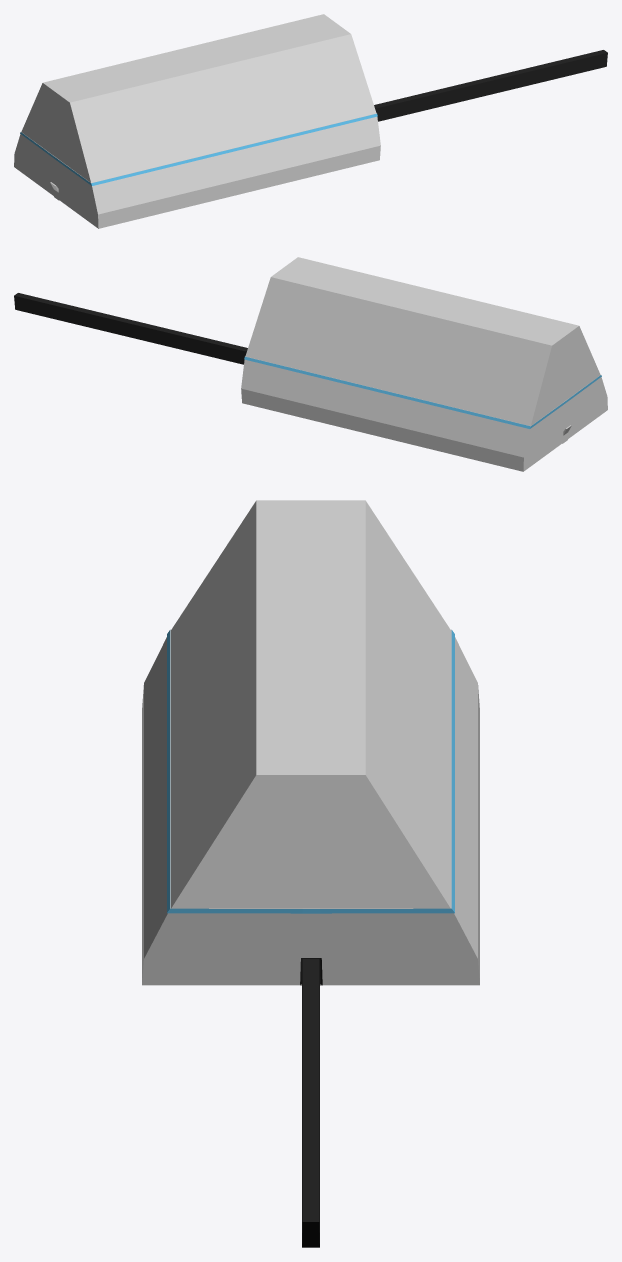
Rendered from WindMonument_Inside.fbx.
The picture shows the model from 3 angles, top to bottom: view 1: azimuth 30°, elevation 25°; view 2: azimuth 150°, elevation 25°; view 3: azimuth 270°, elevation 25°; orthographic projection. The views are drawn at different scales.
Visible parts, largest first — view 1: WindMonument_Inside; view 2: WindMonument_Inside; view 3: WindMonument_Inside.
Part boxes in pixels (x1,y1,x2,y2): WindMonument_Inside: (14,14,607,228); WindMonument_Inside: (14,257,607,471); WindMonument_Inside: (142,500,479,1247).
Bounding box in the file's own units: 12653 × 2320 × 3348.
